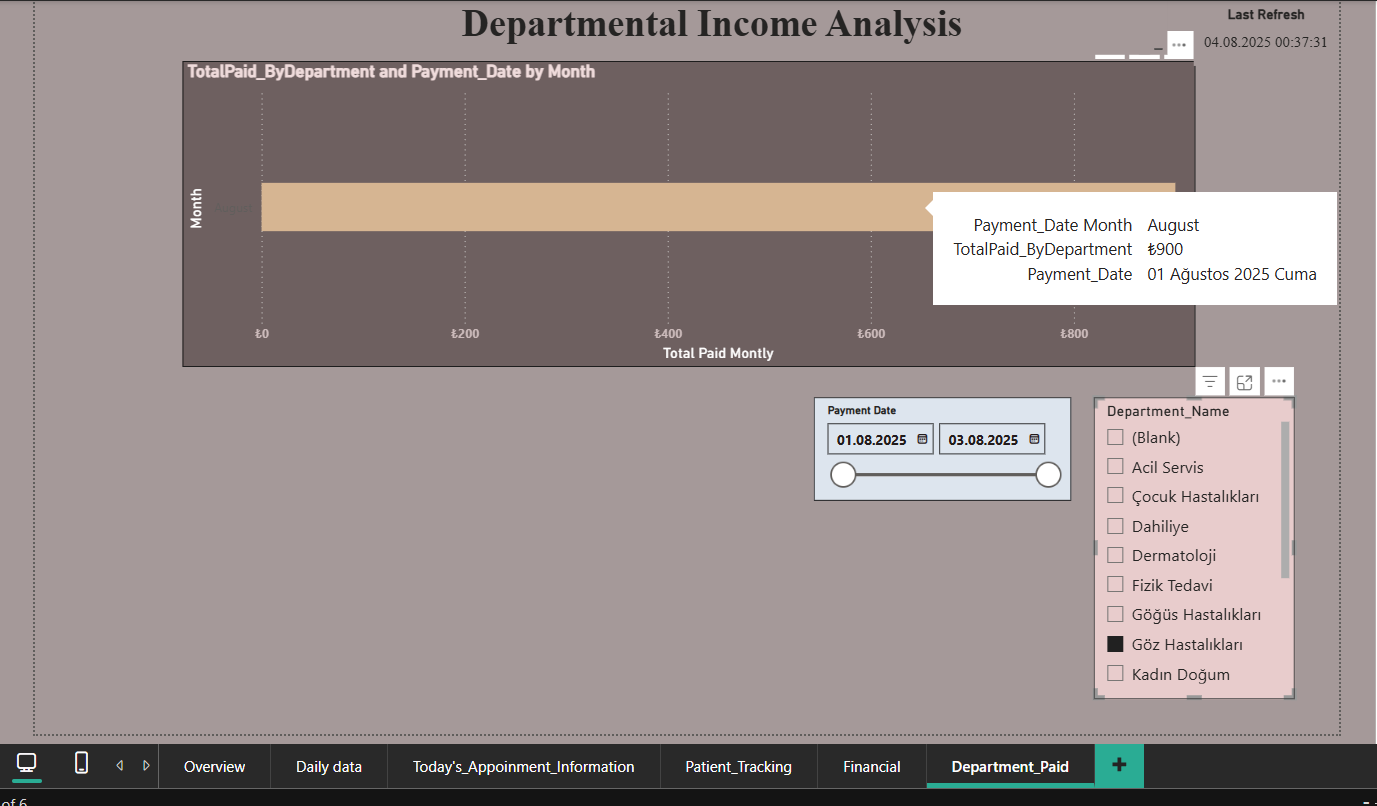

This screenshot's page, from the dashboard's own definition file:
{"tool":"powerbi","page":{"name":"Department_Paid","canvas":[1280,720],"ordinal":5},"visuals":[{"type":"slicer","fields":{"Values":["Invoices.Payment_Date"]},"box":[763.9,389.5,252.5,101.8],"z":0},{"type":"slicer","fields":{"Values":["Departments.Department_Name"]},"box":[1039,389.5,197.3,296.5],"z":1000},{"type":"clusteredBarChart","fields":{"Category":["Invoices.Payment_Date.Variation.Date Hierarchy.Month"],"Y":["Invoices.TotalPaid_ByDateAndDepartment"]},"box":[144.5,59.1,993.8,300.3],"z":2000},{"type":"textbox","title":"Departmental Income Analysis","box":[217.4,0,894.5,52.8],"z":3000},{"type":"card","title":"Last Refresh","fields":{"Values":["AppointmentSchedule.LastRefresh"]},"box":[1137.4,6.1,142.3,57.7],"z":4000}]}

Visuals, with their boxes on the page's 1280x720 design canvas (x1, y1, x2, y2). These are canvas units, not pixel positions in the 1377x806 screenshot, which may show the page scaled, cropped or inside an application window:
slicer - Invoices.Payment_Date: crop(764, 390, 1016, 491)
slicer - Departments.Department_Name: crop(1039, 390, 1236, 686)
clusteredBarChart - Invoices.Payment_Date.Variation.Date Hierarchy.Month x Invoices.TotalPaid_ByDateAndDepartment: crop(144, 59, 1138, 359)
"Departmental Income Analysis" textbox: crop(217, 0, 1112, 53)
"Last Refresh" card: crop(1137, 6, 1280, 64)
